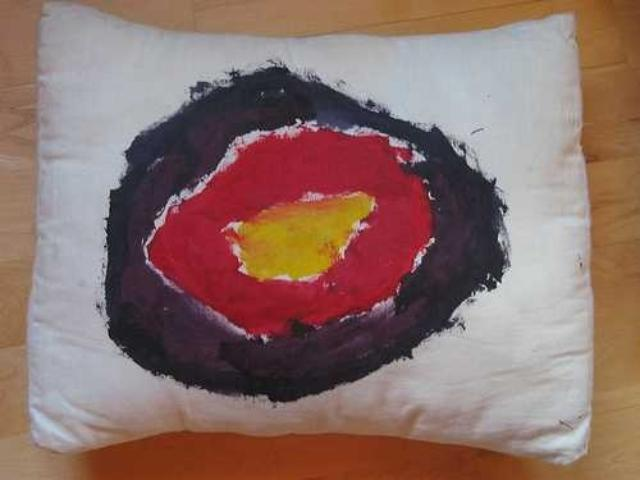pillow: (24, 2, 594, 466)
